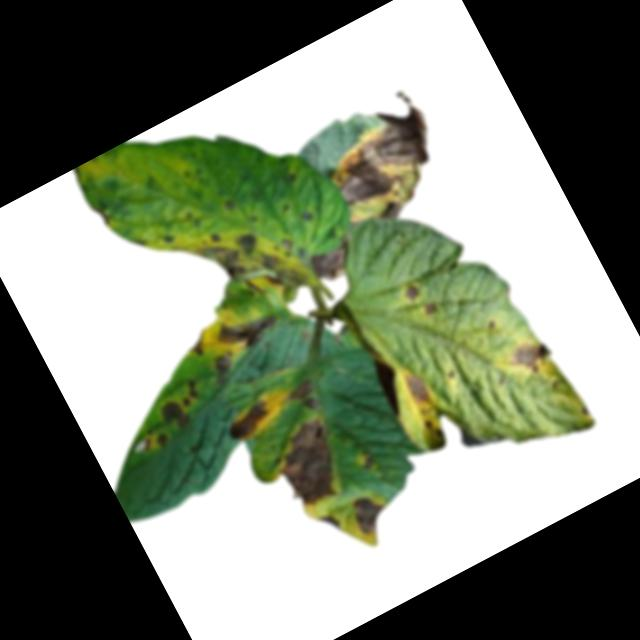Early_blight: (306, 85, 460, 239), (263, 413, 356, 514), (183, 225, 252, 299), (213, 298, 284, 359), (253, 241, 309, 301), (221, 391, 277, 444), (502, 330, 557, 382), (307, 236, 359, 286), (344, 485, 392, 537), (282, 374, 325, 417), (398, 364, 435, 409), (201, 348, 241, 389), (156, 395, 192, 436), (137, 420, 174, 457), (228, 222, 263, 260), (173, 375, 206, 409), (183, 330, 212, 362), (313, 509, 343, 537), (352, 447, 376, 473), (421, 415, 445, 440), (400, 282, 423, 304), (296, 204, 317, 225), (157, 226, 178, 246), (418, 297, 438, 317), (279, 167, 297, 186), (221, 195, 236, 213)
